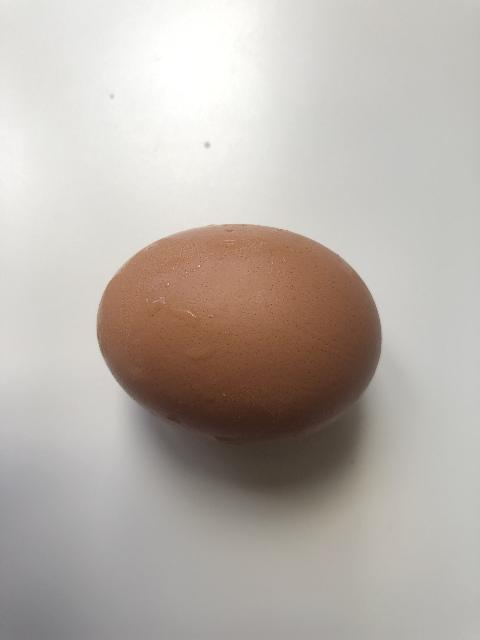Sano: (95, 221, 383, 447)
